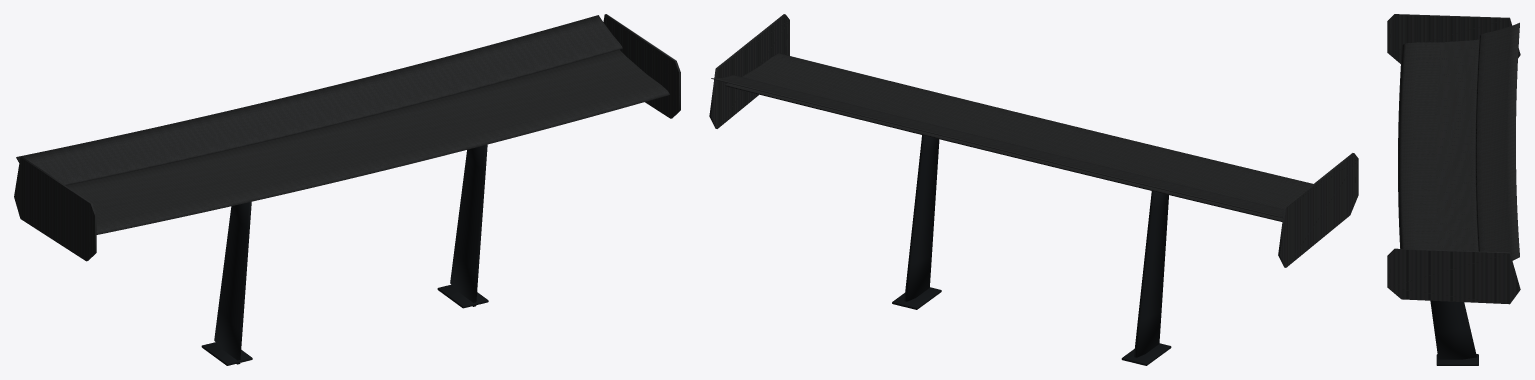
Rendered from RA61_time_attack_wing.glb.
3 renders of one model, left to right at view 1: azimuth 30°, elevation 25°; view 2: azimuth 150°, elevation 25°; view 3: azimuth 270°, elevation 25°, orthographic. The views are drawn at different scales.
Parts seen in each view (by area): view 1: MOD_NC_RA61_main, MOD_NC_RA61_flap, MOD_NC_RA61_endplate_R, MOD_NC_RA61_upright_R, MOD_NC_RA61_upright_L, MOD_NC_RA61_endplate_L; view 2: MOD_NC_RA61_main, MOD_NC_RA61_flap, MOD_NC_RA61_endplate_R, MOD_NC_RA61_upright_R, MOD_NC_RA61_upright_L, MOD_NC_RA61_endplate_L; view 3: MOD_NC_RA61_main, MOD_NC_RA61_flap, MOD_NC_RA61_endplate_L, MOD_NC_RA61_endplate_R, MOD_NC_RA61_upright_L, MOD_NC_RA61_foot_L.
Part boxes in pixels (left/top/right/bottom): MOD_NC_RA61_main: left=66, top=49, right=669, bottom=234; MOD_NC_RA61_flap: left=16, top=15, right=622, bottom=185; MOD_NC_RA61_endplate_R: left=14, top=156, right=96, bottom=261; MOD_NC_RA61_upright_R: left=214, top=202, right=251, bottom=364; MOD_NC_RA61_upright_L: left=450, top=144, right=487, bottom=306; MOD_NC_RA61_endplate_L: left=603, top=14, right=680, bottom=118; MOD_NC_RA61_main: left=725, top=53, right=1312, bottom=221; MOD_NC_RA61_flap: left=711, top=75, right=1283, bottom=218; MOD_NC_RA61_endplate_R: left=1278, top=153, right=1358, bottom=267; MOD_NC_RA61_upright_R: left=1134, top=191, right=1168, bottom=357; MOD_NC_RA61_upright_L: left=904, top=135, right=939, bottom=301; MOD_NC_RA61_endplate_L: left=709, top=14, right=789, bottom=128; MOD_NC_RA61_main: left=1398, top=39, right=1479, bottom=251; MOD_NC_RA61_flap: left=1475, top=22, right=1519, bottom=260; MOD_NC_RA61_endplate_L: left=1387, top=248, right=1520, bottom=304; MOD_NC_RA61_endplate_R: left=1387, top=14, right=1520, bottom=63; MOD_NC_RA61_upright_L: left=1430, top=300, right=1476, bottom=359; MOD_NC_RA61_foot_L: left=1436, top=354, right=1478, bottom=365.
Bounding box in the file's own units: 1.59 × 0.5779 × 0.38.
2 materials, 1 textured.
